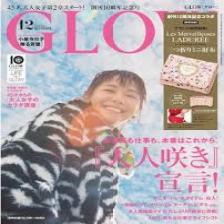paper: (1, 2, 224, 224)
